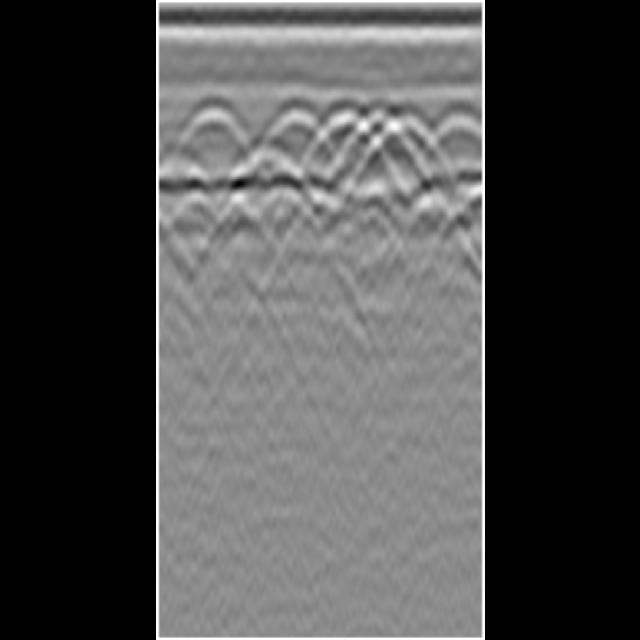hyperbola: (181, 100, 245, 170), (256, 100, 318, 168), (345, 106, 399, 172), (311, 101, 364, 167), (427, 103, 479, 163), (391, 105, 437, 162)
